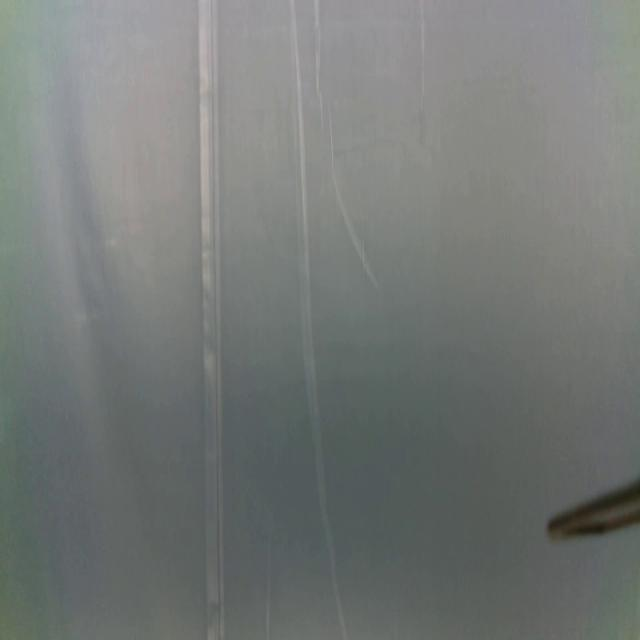crease: (290, 0, 347, 639), (196, 0, 225, 640), (328, 101, 376, 288), (313, 3, 325, 115), (418, 0, 427, 109)
